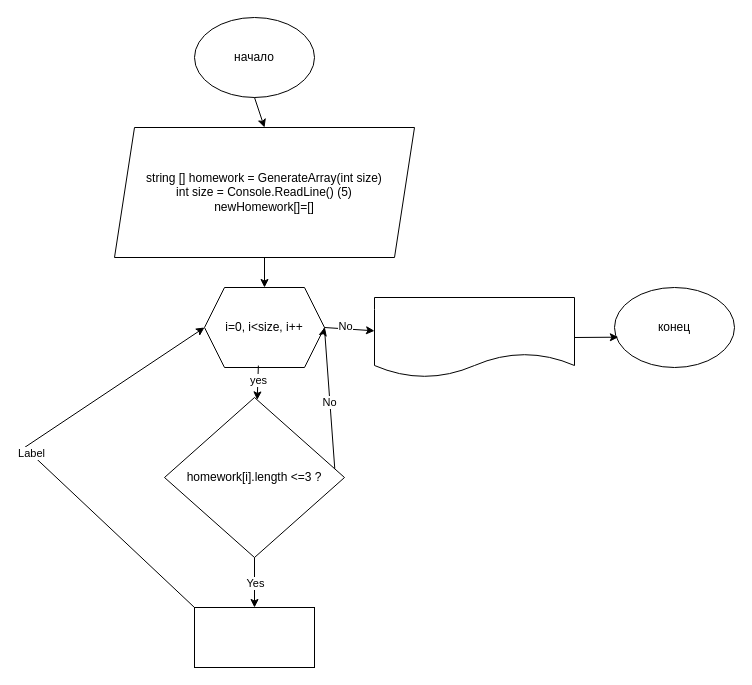
Image size: 752x685. Some labels were removed from this diagram. The shapes that lost their labels are listed below. From the top down, each one's box as (x1, y1, x2, y2) in pixels, then its label:
(374, 296, 574, 378): PrintArray(newHomework)
(194, 606, 314, 668): newHomework[i] = homework[i]
